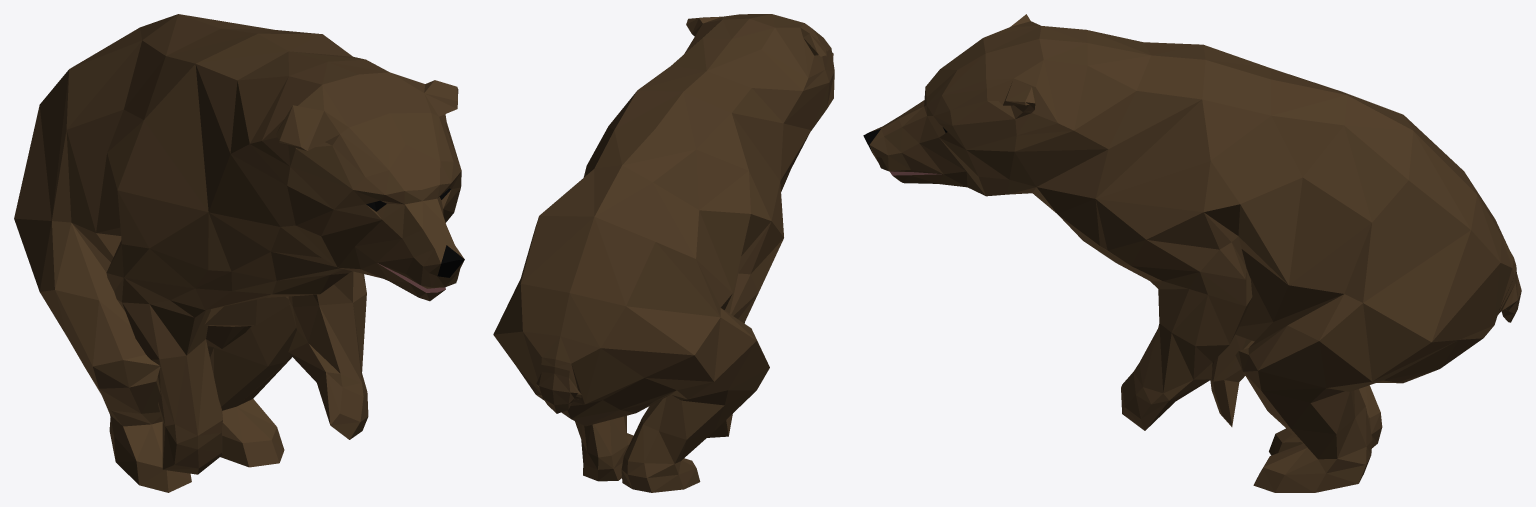
Rendered from ours.glb.
The picture shows the model from 3 angles, left to right: view 1: azimuth 30°, elevation 25°; view 2: azimuth 150°, elevation 25°; view 3: azimuth 270°, elevation 25°; orthographic projection. The views are drawn at different scales.
Parts seen in each view (by area): view 1: bearBrown_B; view 2: bearBrown_B; view 3: bearBrown_B.
Part boxes in pixels (x1,y1,x2,y2): bearBrown_B: (14, 14, 464, 492); bearBrown_B: (493, 14, 834, 492); bearBrown_B: (863, 14, 1521, 492).
Bounding box in the file's own units: 98.86 × 160 × 219.
